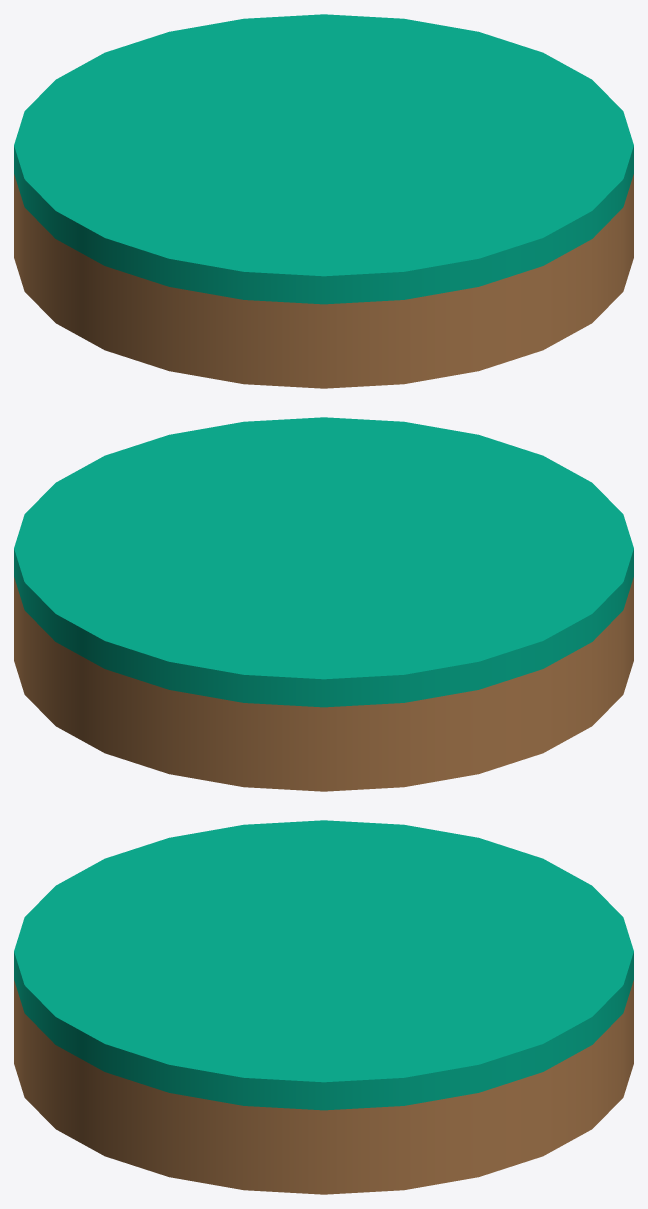
The model's file is platform_round.fbx.
The picture shows the model from 3 angles, top to bottom: view 1: azimuth 30°, elevation 25°; view 2: azimuth 150°, elevation 25°; view 3: azimuth 270°, elevation 25°; orthographic projection.
Visible parts, largest first — view 1: Boole; view 2: Boole; view 3: Boole.
Boxes of the visible parts, x1,y1,x2,y2 form: Boole: (14,14,633,388); Boole: (14,417,633,791); Boole: (14,820,633,1194).
Bounding box in the file's own units: 1000 × 200 × 1000.
